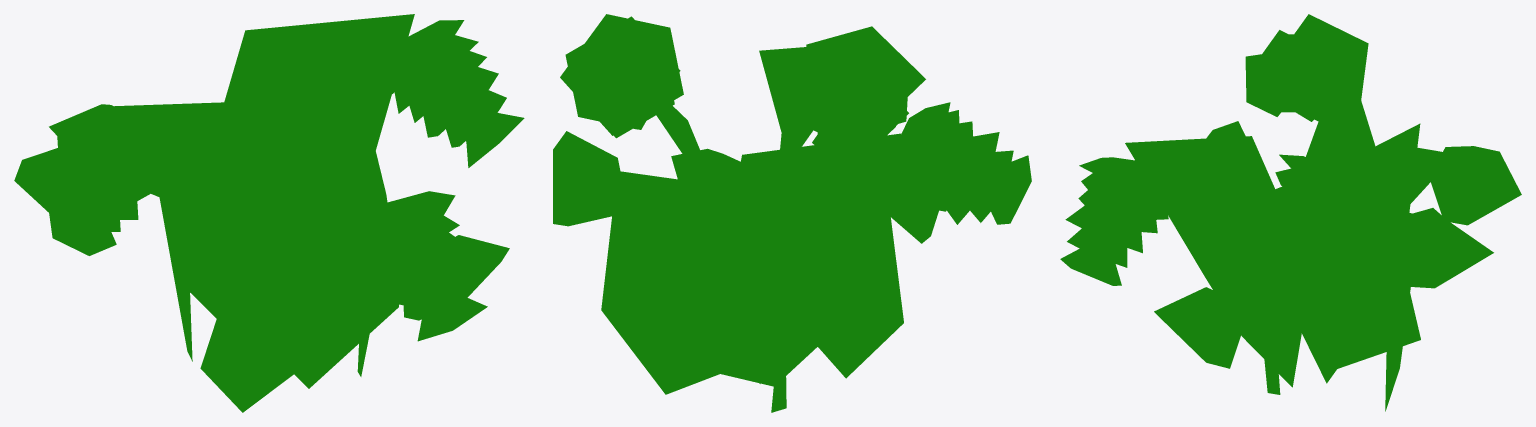
Rendered from Deathbells_2.fbx.
3 views of the same model, side by side, from view 1: azimuth 30°, elevation 25°; view 2: azimuth 150°, elevation 25°; view 3: azimuth 270°, elevation 25° (orthographic). The views are drawn at different scales.
Parts seen in each view (by area): view 1: Deathbells_2; view 2: Deathbells_2; view 3: Deathbells_2.
Boxes of the visible parts, x1,y1,x2,y2 form: Deathbells_2: (14,14,524,412); Deathbells_2: (553,14,1031,412); Deathbells_2: (1060,14,1521,411).
Bounding box in the file's own units: 67.62 × 45.77 × 65.73.
